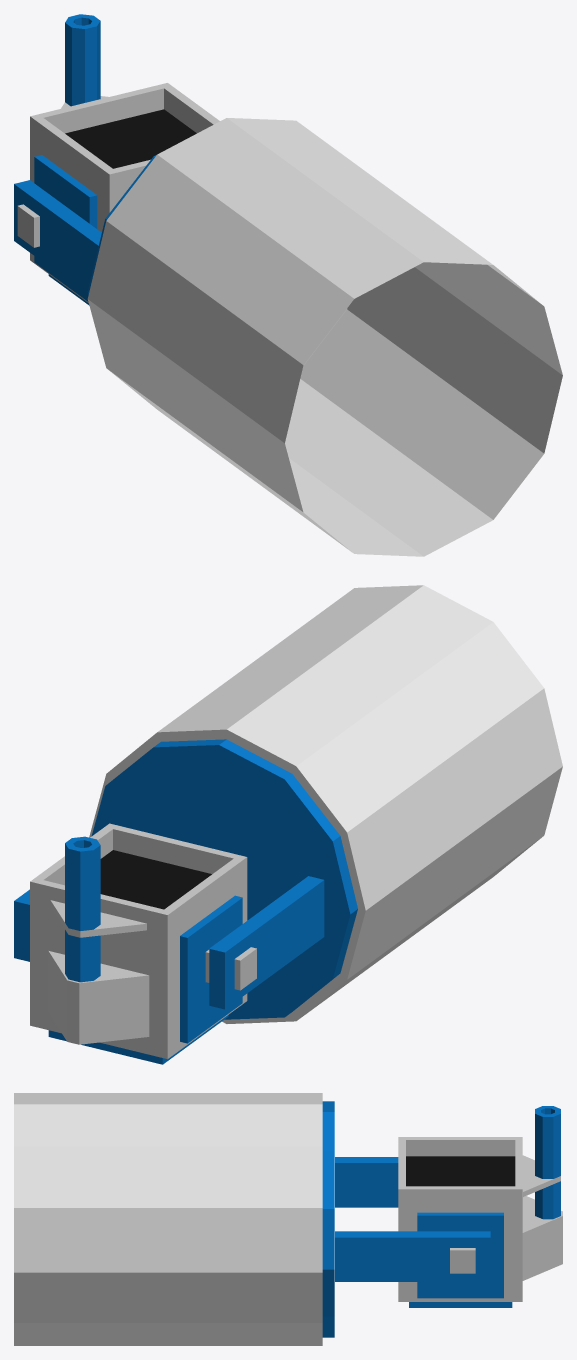
Rendered from MDL_AATurret.fbx.
The picture shows the model from 3 angles, top to bottom: view 1: azimuth 30°, elevation 25°; view 2: azimuth 150°, elevation 25°; view 3: azimuth 270°, elevation 25°; orthographic projection. The views are drawn at different scales.
Visible parts, largest first — view 1: TurretStand, AirTurretHead, AirTurretYRoot, AirTurret_CoilGun; view 2: TurretStand, AirTurretYRoot, AirTurretHead, AirTurret_CoilGun; view 3: TurretStand, AirTurretHead, AirTurretYRoot, AirTurret_CoilGun.
Part boxes in pixels (x1=…): TurretStand: x1=87, y1=118, x2=562, y2=556; AirTurretHead: x1=17, y1=83, x2=219, y2=305; AirTurretYRoot: x1=14, y1=155, x2=156, y2=295; AirTurret_CoilGun: x1=61, y1=14, x2=108, y2=108; TurretStand: x1=89, y1=585, x2=562, y2=1023; AirTurretYRoot: x1=14, y1=739, x2=357, y2=1019; AirTurretHead: x1=30, y1=823, x2=256, y2=1064; AirTurret_CoilGun: x1=48, y1=836, x2=149, y2=1044; TurretStand: x1=14, y1=1093, x2=322, y2=1345; AirTurretHead: x1=398, y1=1137, x2=522, y2=1307; AirTurretYRoot: x1=322, y1=1101, x2=490, y2=1337; AirTurret_CoilGun: x1=522, y1=1106, x2=562, y2=1280.
Bounding box in the file's own units: 261 × 264 × 570.
